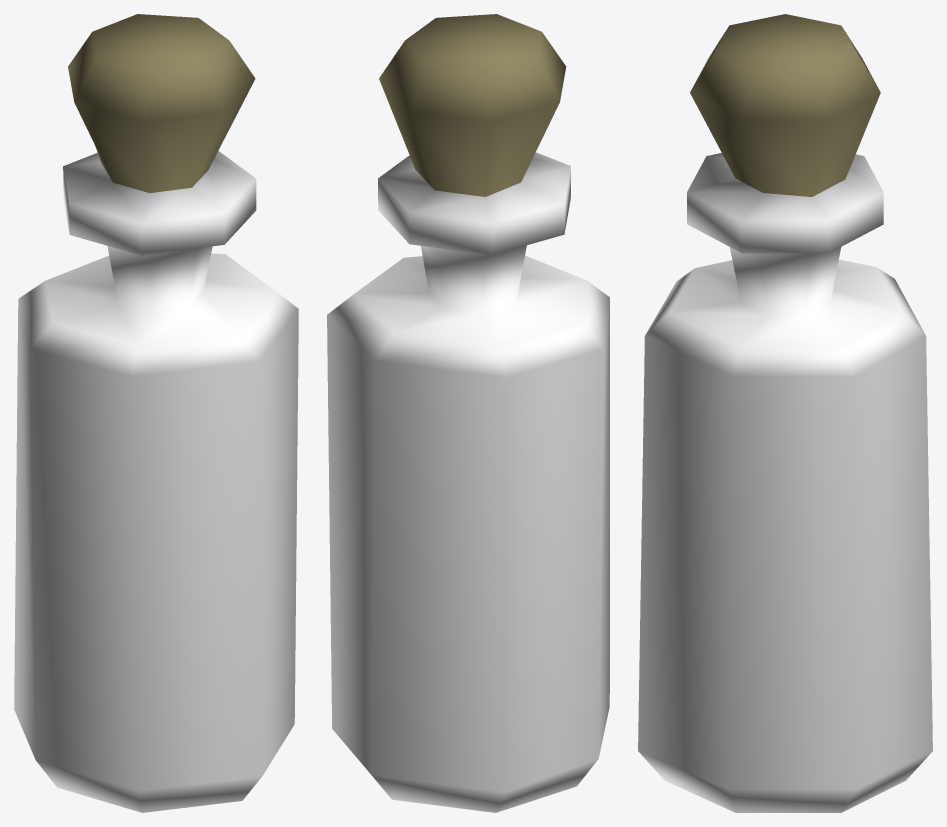
Rendered from Environment_003_Lab_003_Vial_v01.fbx.
3 views of the same model, side by side, from view 1: azimuth 30°, elevation 25°; view 2: azimuth 150°, elevation 25°; view 3: azimuth 270°, elevation 25° (orthographic).
Parts seen in each view (by area): view 1: Environment_003_Lab_003_Vial_v01; view 2: Environment_003_Lab_003_Vial_v01; view 3: Environment_003_Lab_003_Vial_v01.
Boxes of the visible parts, x1,y1,x2,y2 form: Environment_003_Lab_003_Vial_v01: (14,14,298,812); Environment_003_Lab_003_Vial_v01: (327,14,609,812); Environment_003_Lab_003_Vial_v01: (638,14,932,812).
Bounding box in the file's own units: 34.07 × 98.54 × 35.64.
